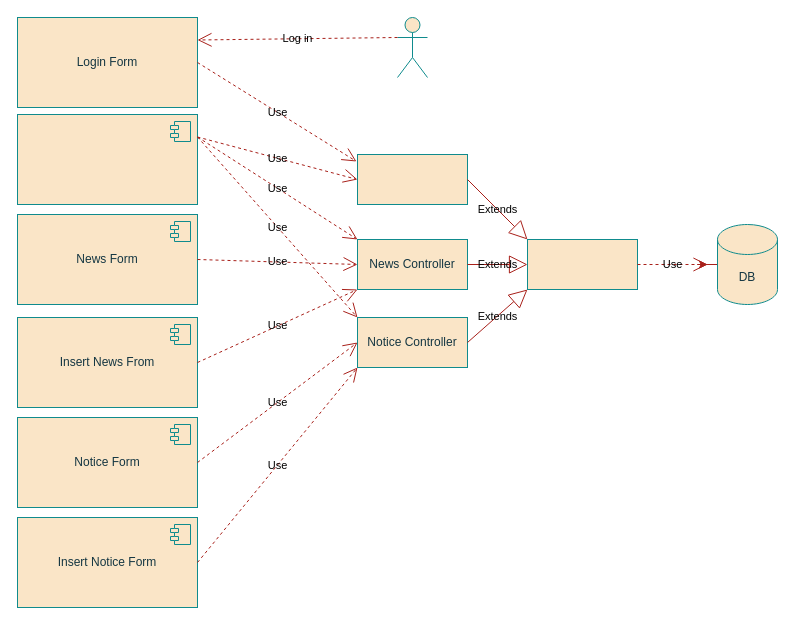
Image size: 795x625. Some labels were removed from this diagram. The centre of each missing label's shape, as x and y in pixels:
"Connection" goes at point (582, 264).
"Main Form" goes at point (107, 159).
"User" goes at point (412, 47).
"User Controller" goes at point (412, 179).
